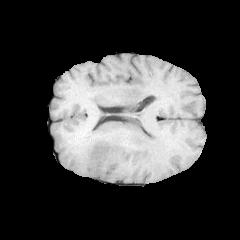glioma: (62, 98, 164, 176)
